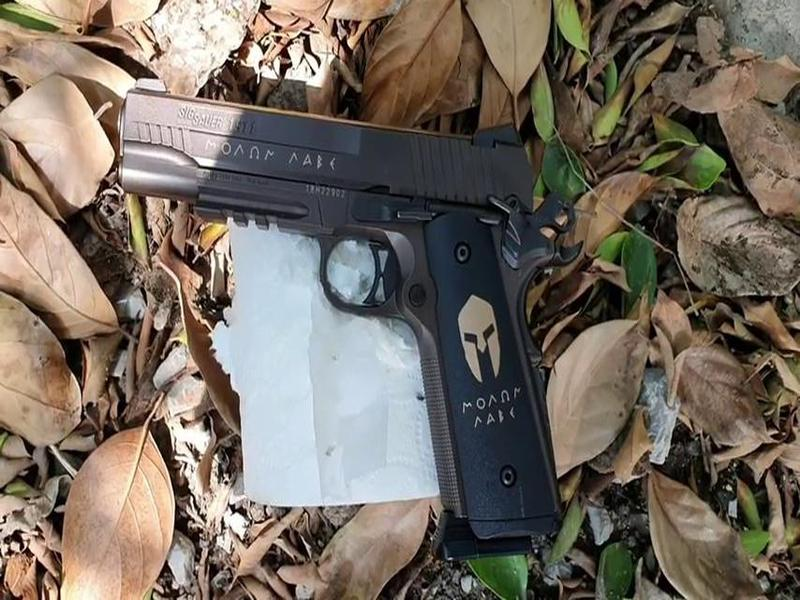Pistola: (114, 66, 617, 557)
